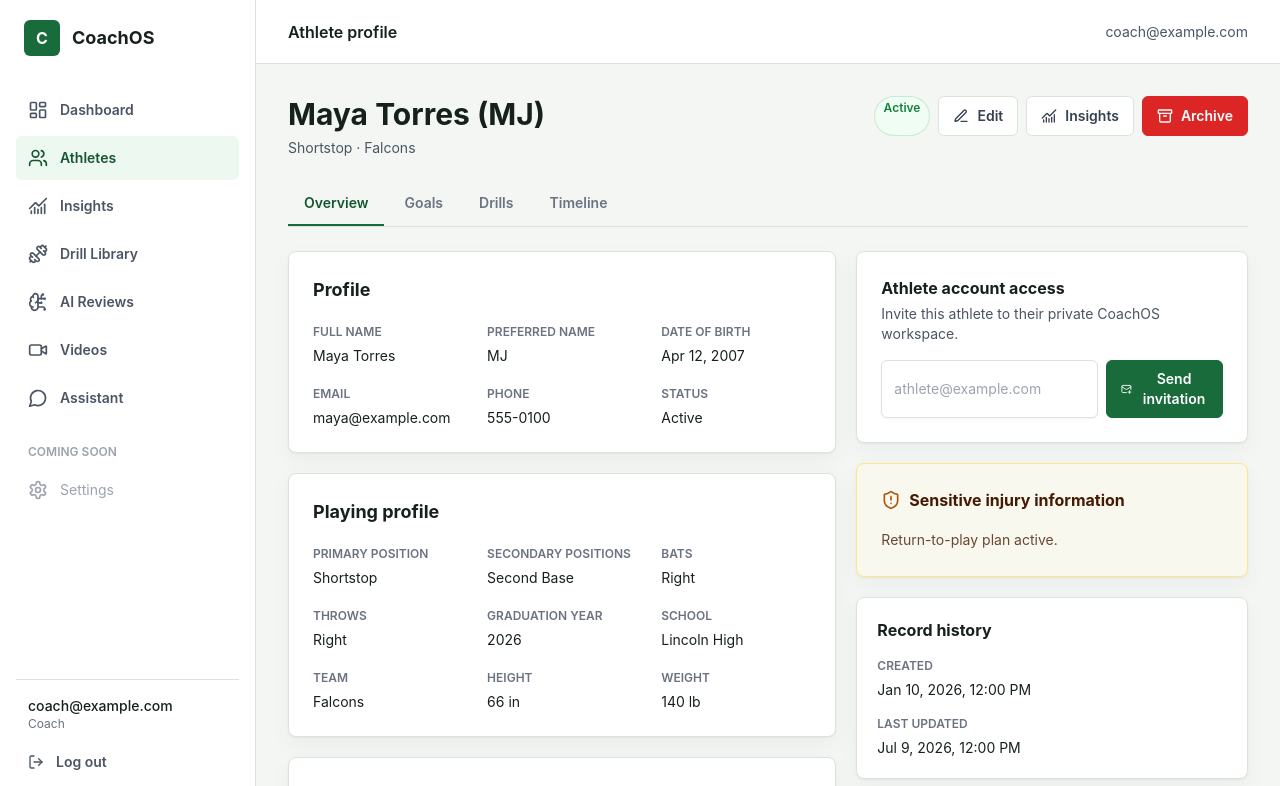
Scenario: athlete workflows › renders profile overview, goals, and timeline from separate requests
The width and height of the screenshot is (1280, 786).
Expected: the text "Return-to-play plan active." is shown, 881,531 -> 1058,548
Step 1. Click the button "goals" → [424, 204], box 388,182 -> 459,226
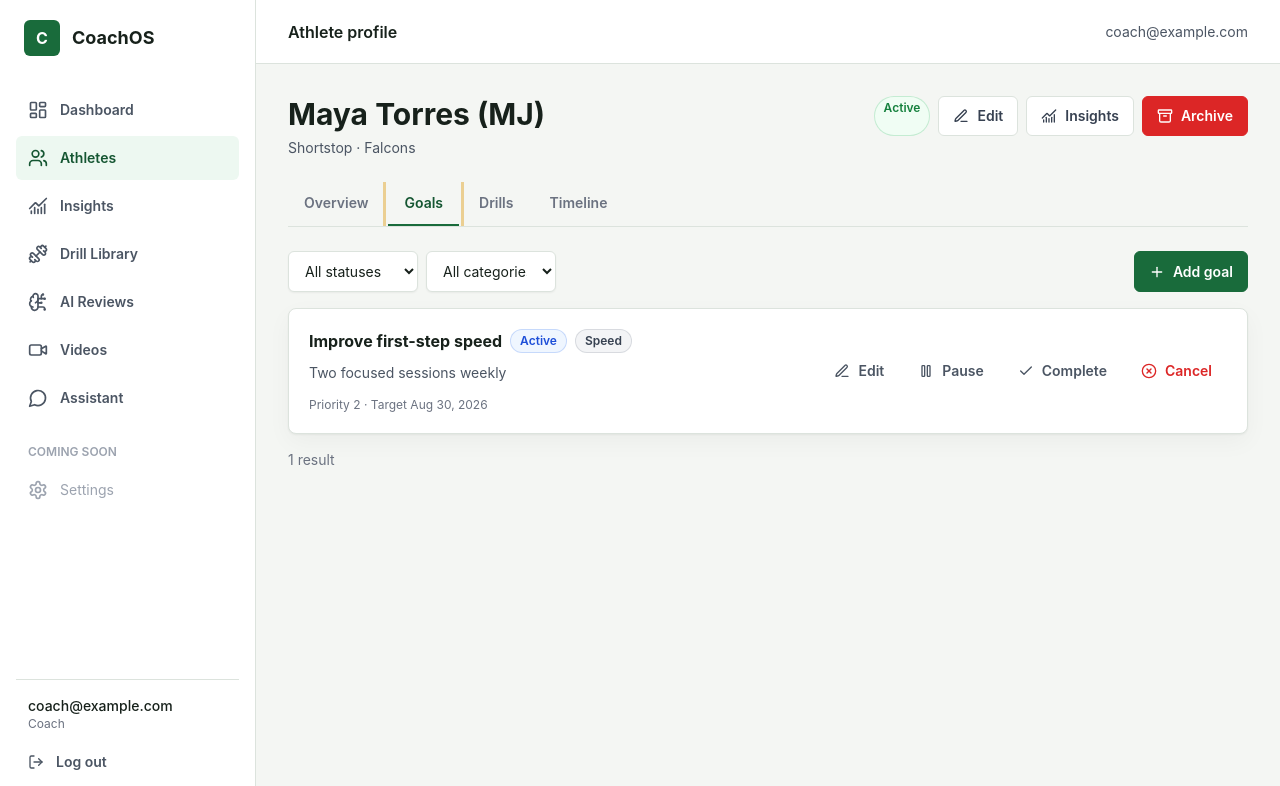
Result: the heading "Improve first-step speed" is shown at 309,329 -> 502,353
Step 2. Click the button "timeline" → [578, 204], box 534,182 -> 624,226
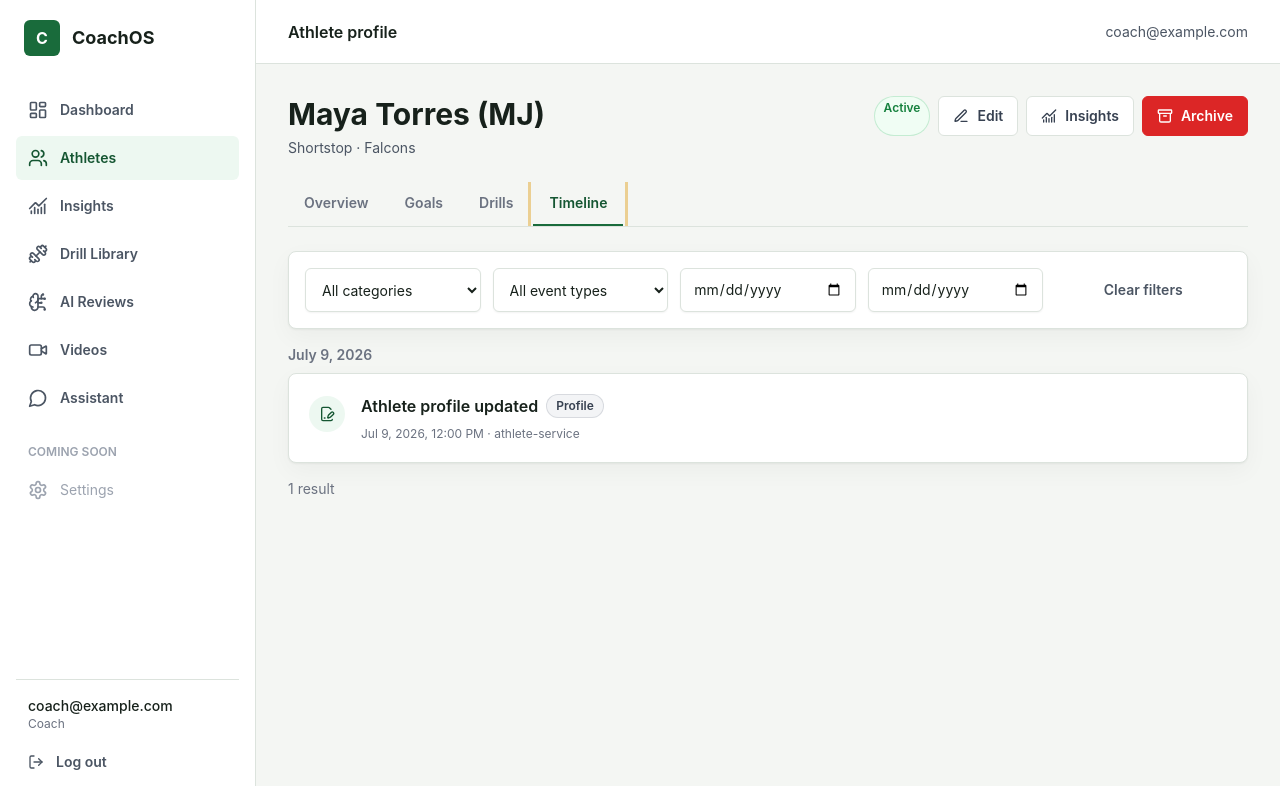
Result: the heading "Athlete profile updated" is shown at 361,394 -> 538,418
